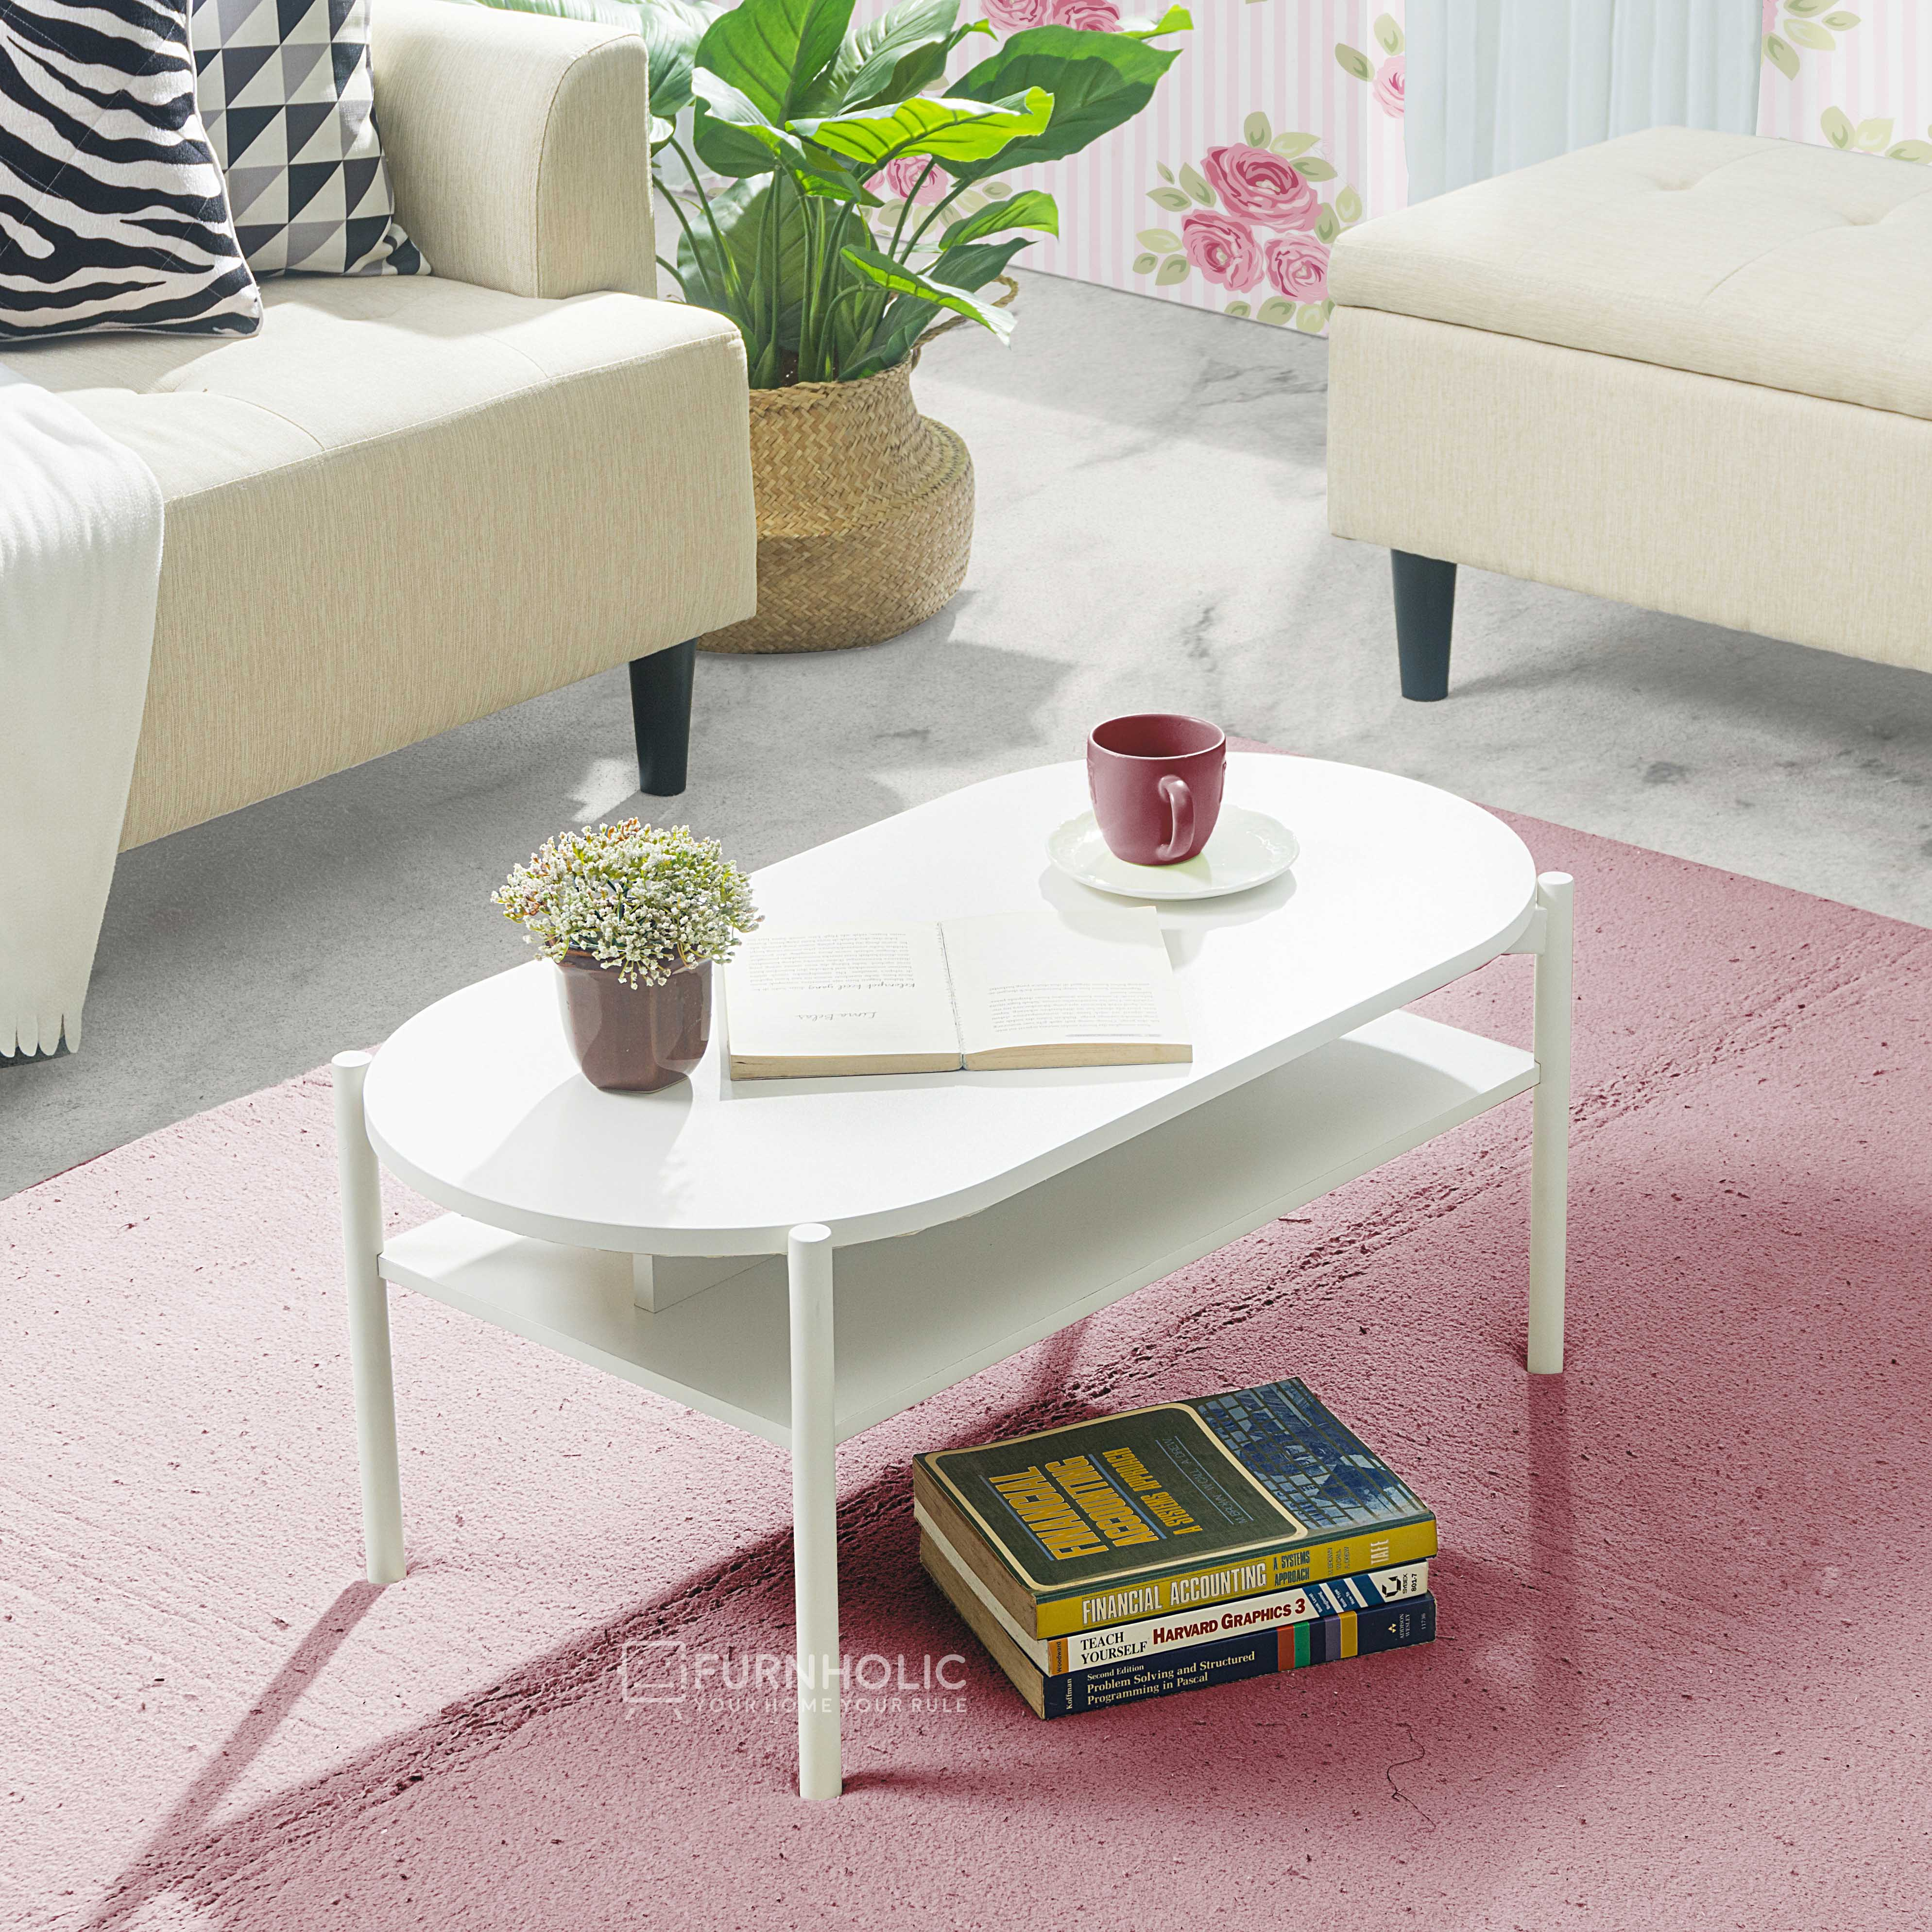Buku: (892, 1368, 1470, 1736)
Gelas: (1083, 708, 1235, 863)
Meja: (364, 752, 1583, 1612)
Sova: (0, 0, 764, 793)
Tanaman: (628, 0, 1014, 658), (508, 839, 748, 1081)
bantal: (0, 0, 271, 350), (205, 0, 412, 276)
buku: (725, 888, 1201, 1074)
